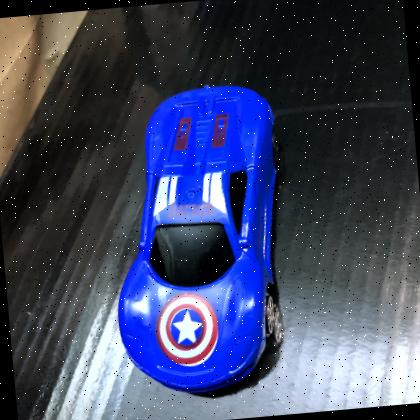Car: (116, 86, 277, 399)
